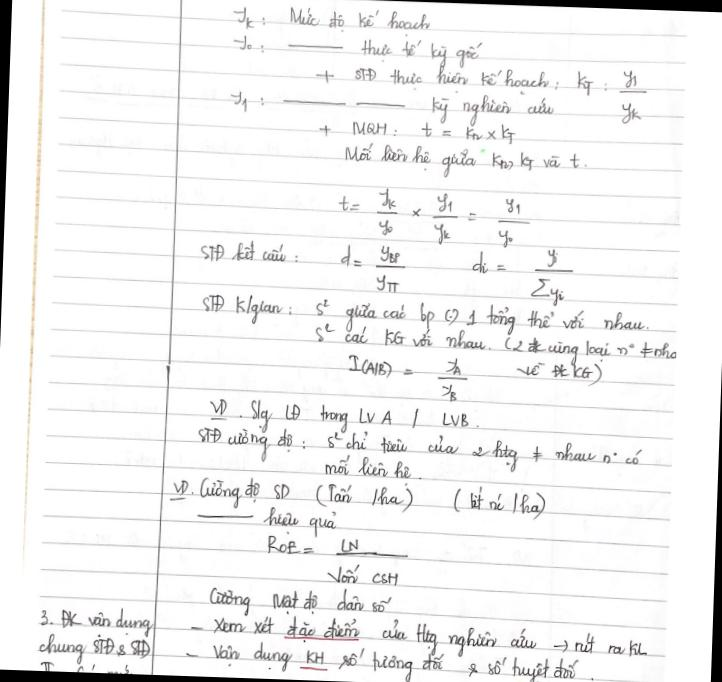text: (193, 422, 646, 476), (186, 612, 648, 664), (198, 290, 653, 341), (166, 471, 548, 521), (310, 322, 678, 369), (183, 641, 581, 682), (334, 184, 534, 250), (204, 396, 472, 443), (340, 140, 590, 184), (318, 59, 560, 99), (230, 2, 435, 39), (206, 582, 394, 622), (342, 348, 471, 406), (468, 242, 578, 310), (316, 116, 518, 147), (427, 90, 557, 130), (574, 65, 652, 130), (37, 602, 155, 638), (334, 239, 408, 296), (35, 633, 152, 667), (320, 454, 424, 488), (198, 239, 300, 266), (263, 505, 339, 540), (264, 532, 360, 558), (513, 360, 603, 385), (325, 562, 400, 590), (36, 660, 138, 674), (229, 32, 267, 56), (230, 90, 264, 112)
